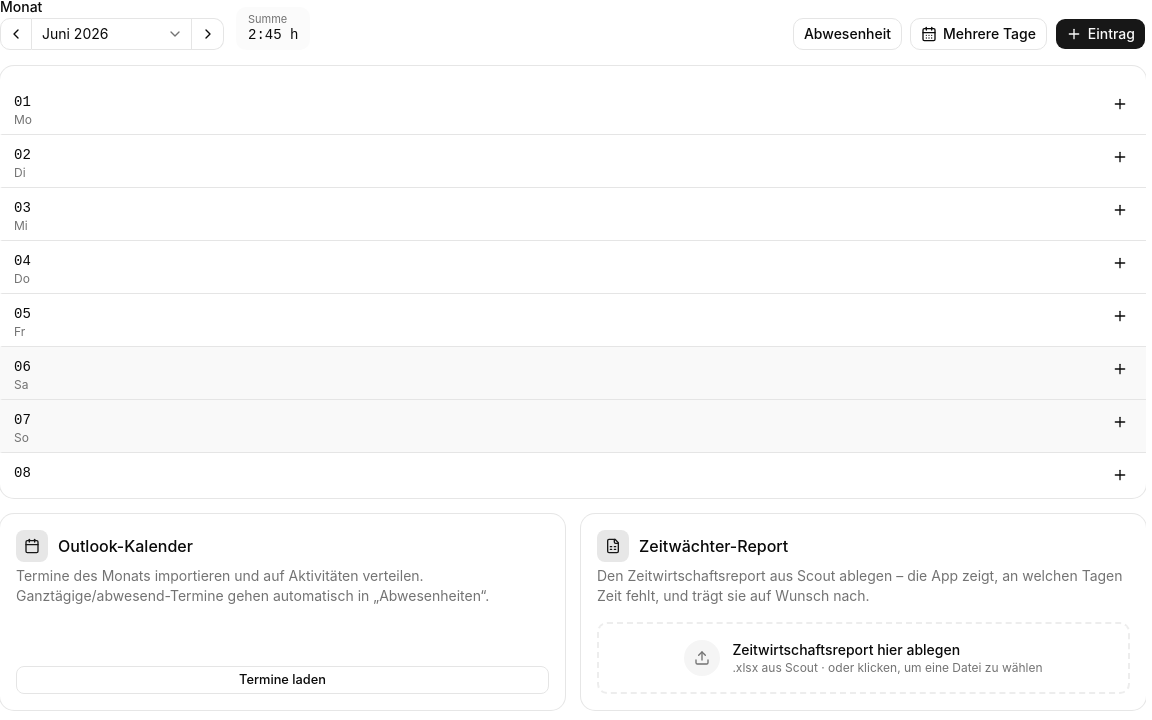
Test: Neuer Eintrag: Vorbelegung von Von und Bis › zieht auch nach, wenn das Datum mit den Pfeiltasten wechselt
Click the button "Eintrag" at (1100, 34), box [1055, 18, 1146, 50]
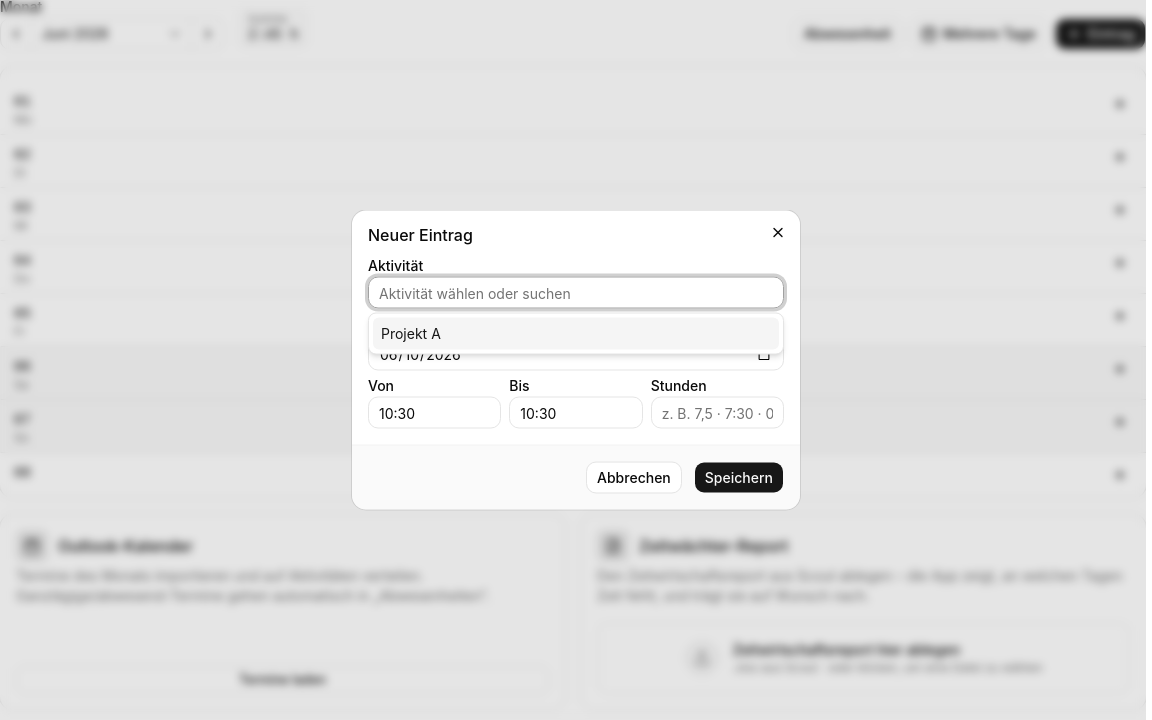
Press ArrowDown in the date field with id "date", box [368, 338, 784, 370]
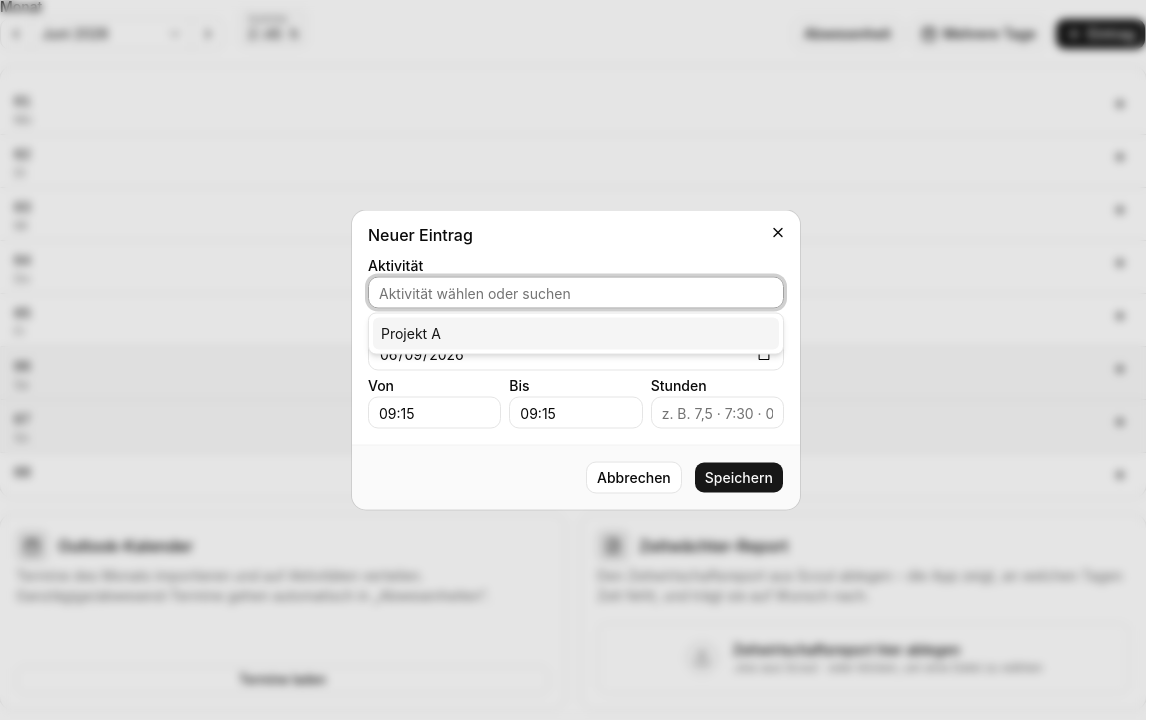
Result: the date field with id "date" holds "2026-06-09" at [368, 338, 784, 370]
